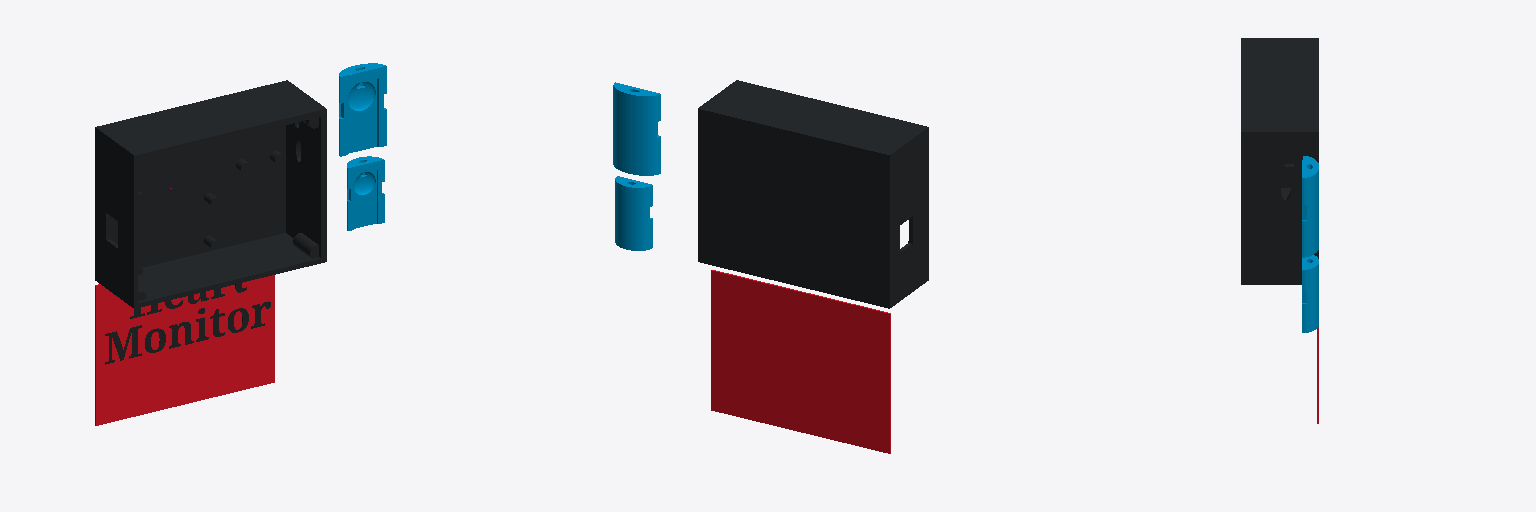
Rendered from tinker.obj.
3 views of the same model, side by side, from view 1: azimuth 30°, elevation 25°; view 2: azimuth 150°, elevation 25°; view 3: azimuth 270°, elevation 25° (orthographic).
Visible parts, largest first — view 1: obj_0; view 2: obj_0; view 3: obj_0.
Part boxes in pixels (left/top/right/bottom): obj_0: left=95, top=63, right=386, bottom=425; obj_0: left=613, top=80, right=928, bottom=453; obj_0: left=1241, top=38, right=1318, bottom=423.
Bounding box in the file's own units: 194 × 195 × 46.39.